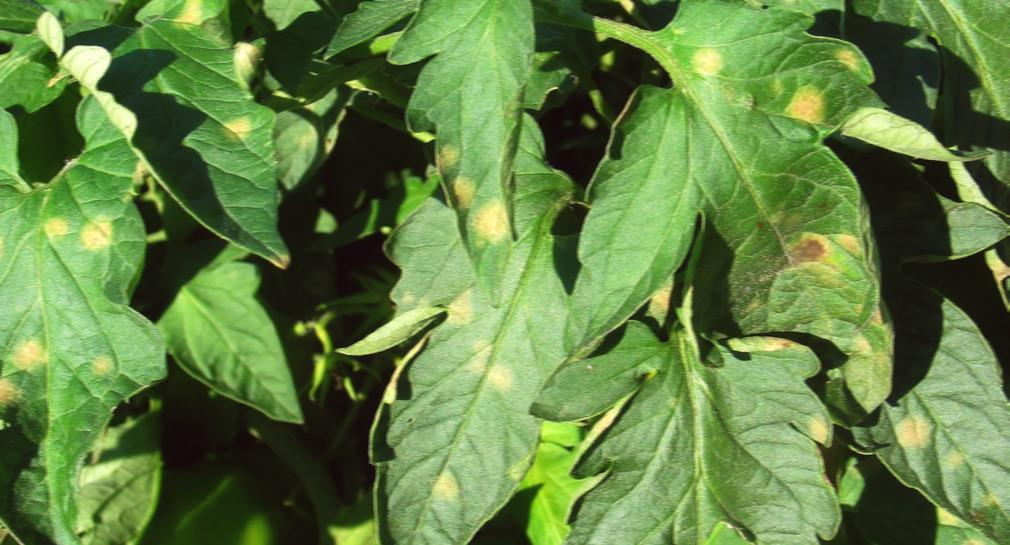Tomato mold leaf: (565, 0, 928, 396), (323, 160, 599, 545), (535, 333, 866, 545), (0, 86, 147, 545), (48, 0, 296, 253), (838, 283, 1010, 545), (407, 0, 537, 310)
